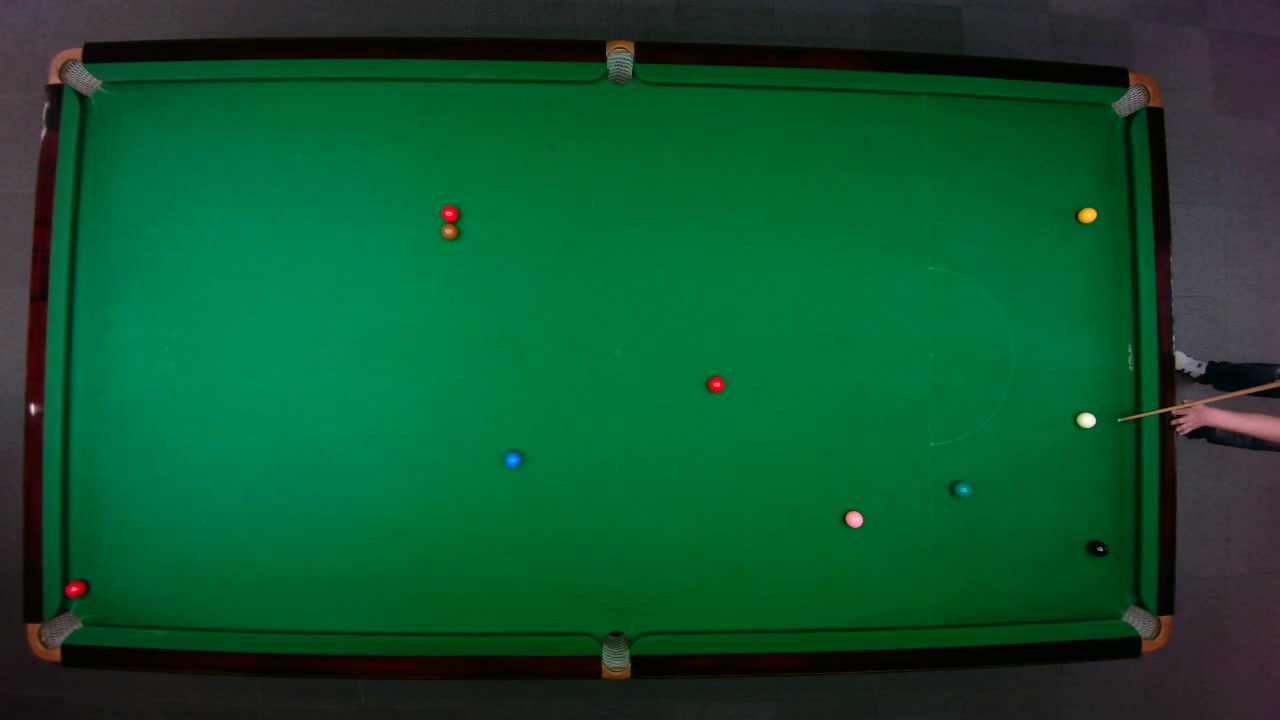bag: (24, 609, 84, 661), (45, 46, 102, 96), (1119, 603, 1172, 652), (1108, 71, 1161, 118), (600, 629, 630, 680), (605, 38, 633, 85)
black: (1087, 539, 1109, 557)
blue: (503, 450, 522, 468)
brown: (440, 223, 458, 240)
cue: (1118, 378, 1280, 424)
green: (951, 480, 972, 497)
pink: (843, 509, 864, 528)
red: (63, 579, 87, 597), (706, 374, 725, 393), (439, 204, 459, 222)
white: (1074, 410, 1096, 428)
yellow: (1076, 205, 1098, 223)
zone: (927, 266, 1014, 445)
